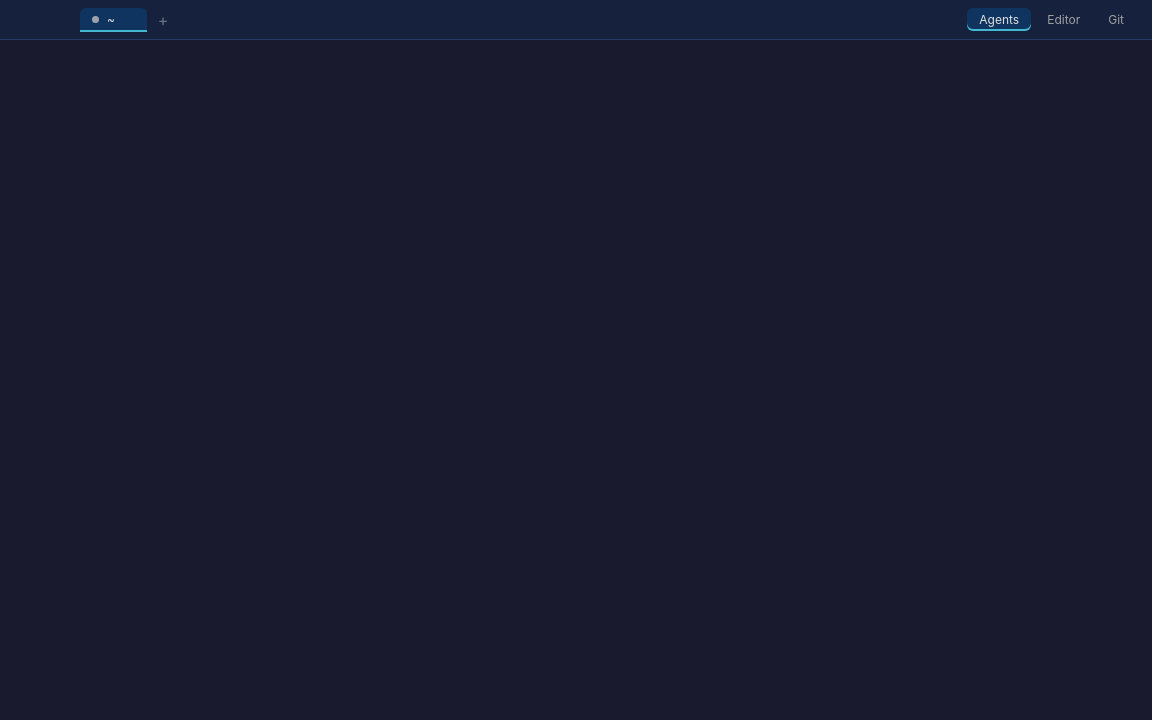
Scenario: TopBar — error handling › new tab menu › closes menu when clicking outside
What coordinates should you click on to do the following:
click the button with test id "new-tab-button"
I would click on:
 (163, 20)
Its box is [151,8,175,32].
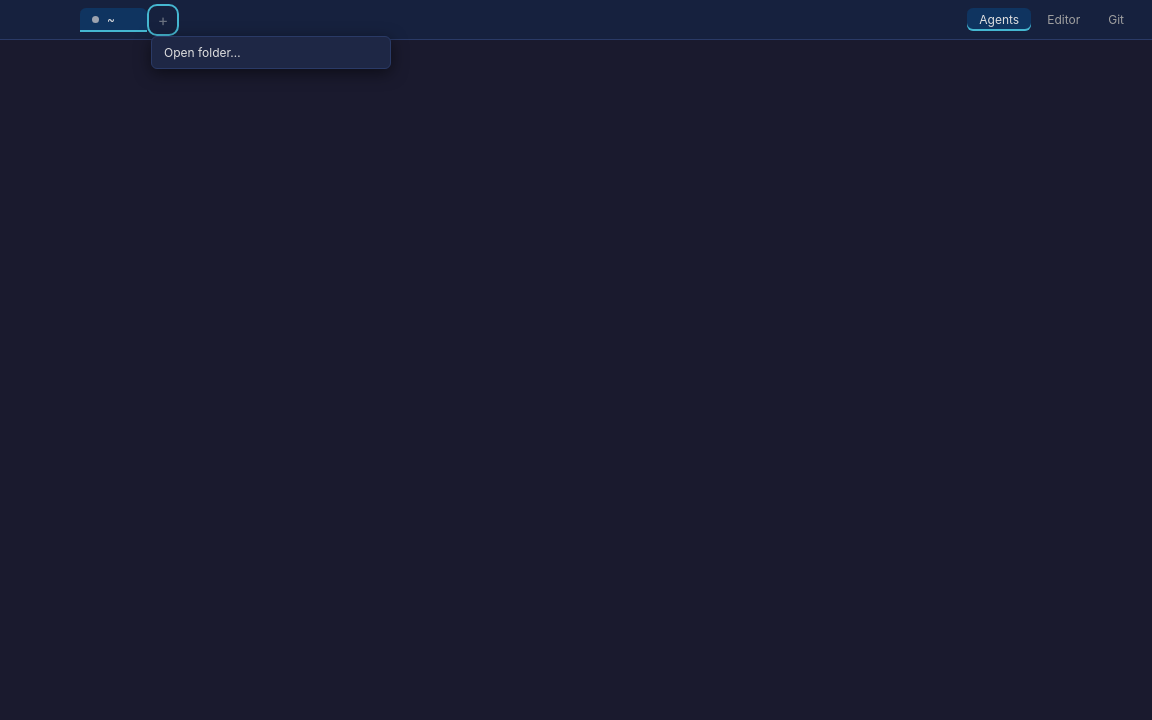
Result: the element with test id "new-tab-menu" is shown at [151,36,391,68]
# Click outside the menu
What coordinates should you click on to do the following:
click the element showing "~ + Open folder… Agents Editor Git"
I would click on:
 (576, 360)
Its box is [0,0,1151,719].
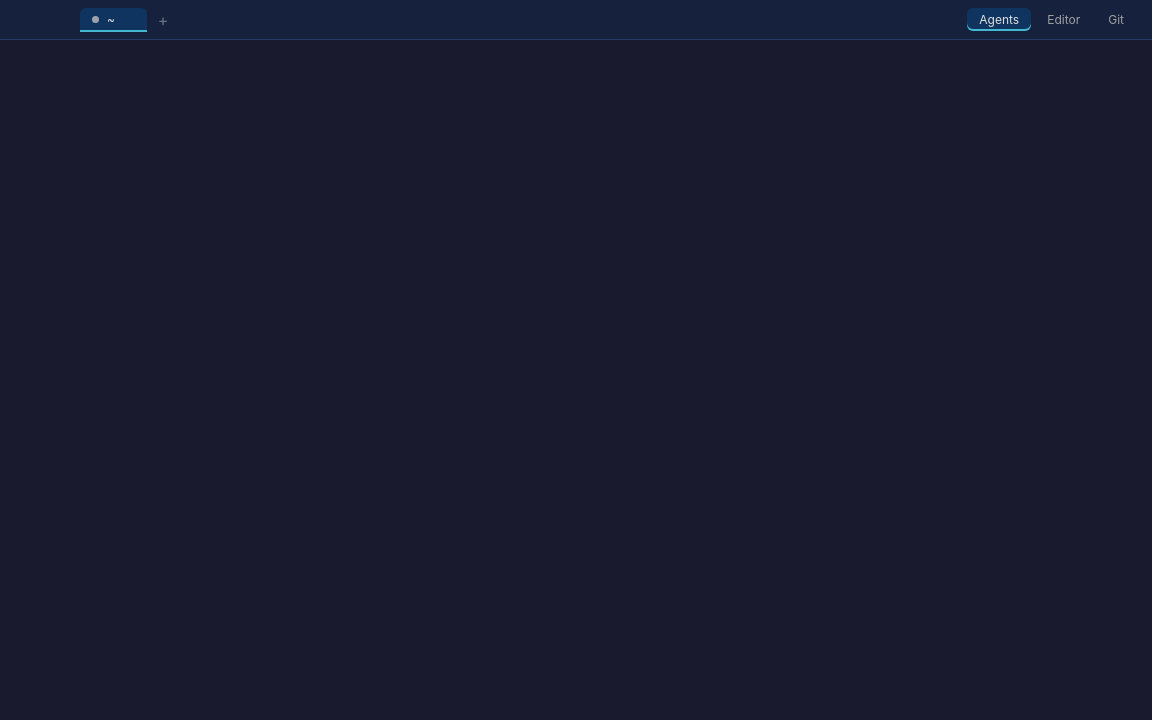
Result: the element with test id "new-tab-menu" is gone
